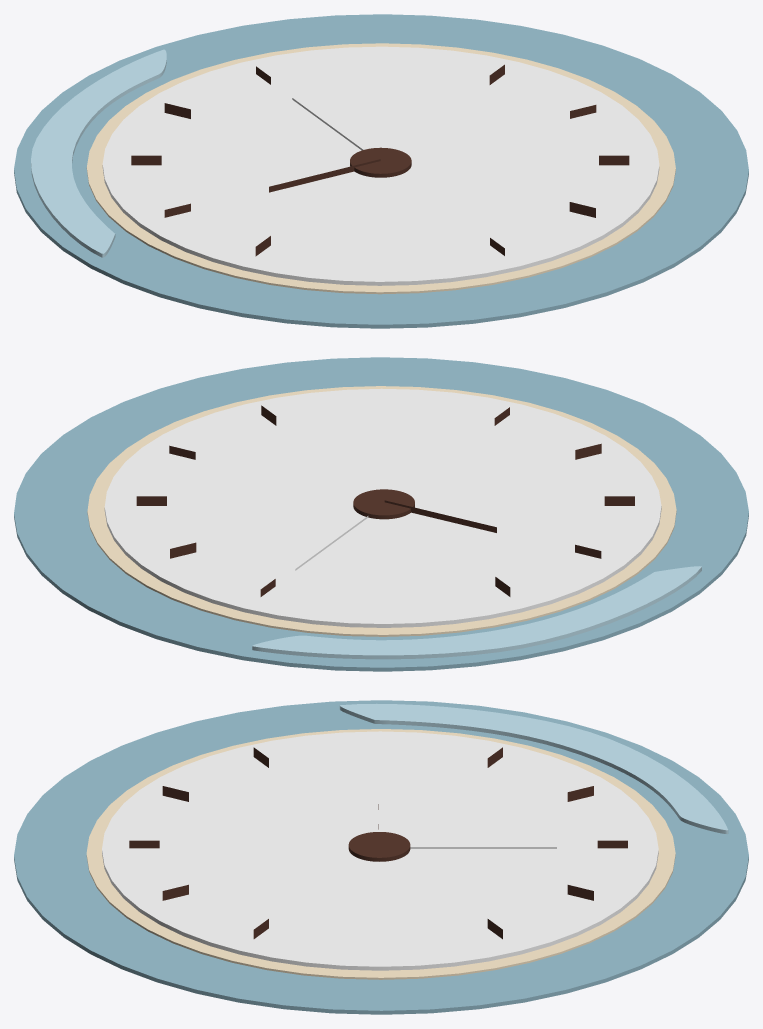
File: emoji_u1f558.glb
3 views of the same model, one above another, from view 1: azimuth 30°, elevation 25°; view 2: azimuth 150°, elevation 25°; view 3: azimuth 270°, elevation 25° (orthographic).
Visible parts, largest first — view 1: emoji_u1f558; view 2: emoji_u1f558; view 3: emoji_u1f558.
Part boxes in pixels (x1,y1,x2,y2): emoji_u1f558: [14, 14, 748, 328]; emoji_u1f558: [14, 357, 748, 671]; emoji_u1f558: [14, 700, 748, 1014].
Size of the model in its own units: 0.0339 by 0.0018 by 0.0339.
